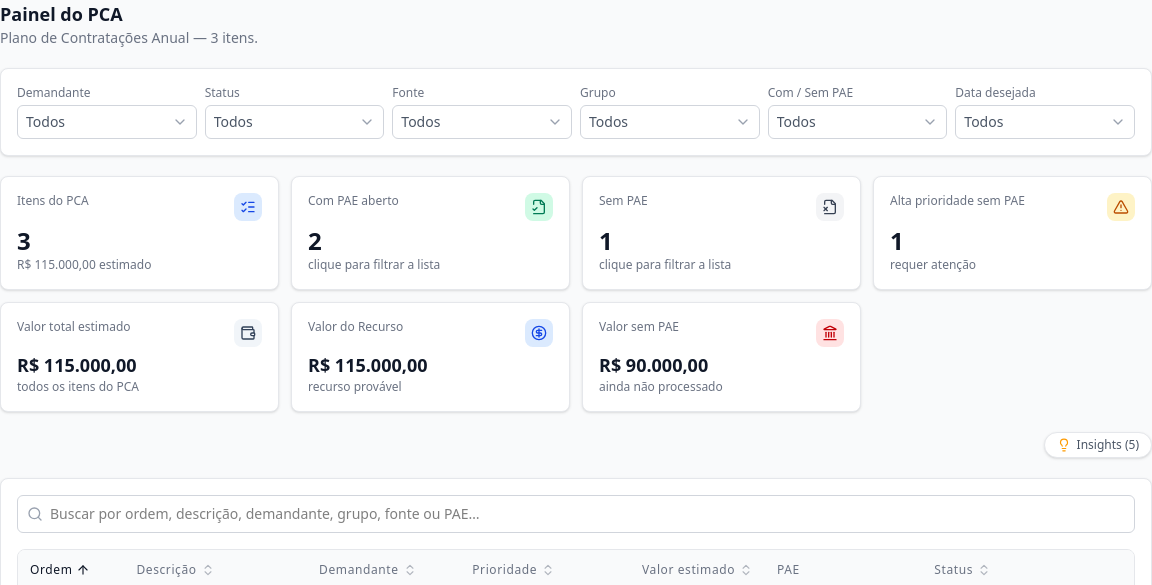
Test: PainelPca › o card "Sem PAE" filtra a lista e gera ponto de atenção de alta prioridade
Click the button "Insights (5)": x=1098, y=445 [1044,432,1151,458]
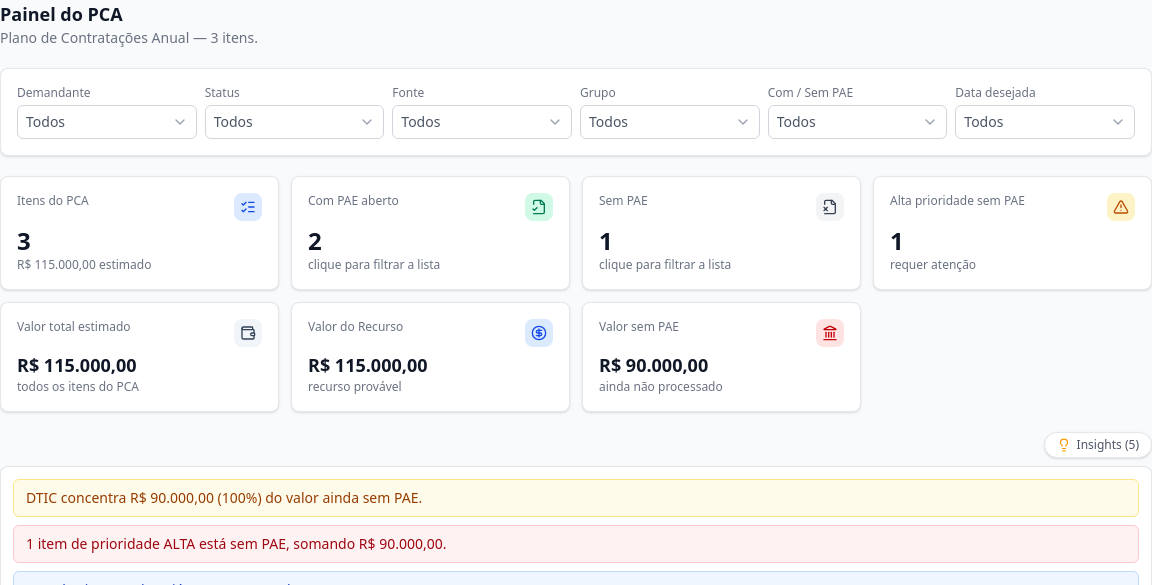
Check: the list item "1 item de prioridade ALTA está sem PAE" is shown, box [26,534,446,553]
Click the button "Sem PAE 1 clique para filtrar a lista": x=623, y=200 [582,176,861,290]
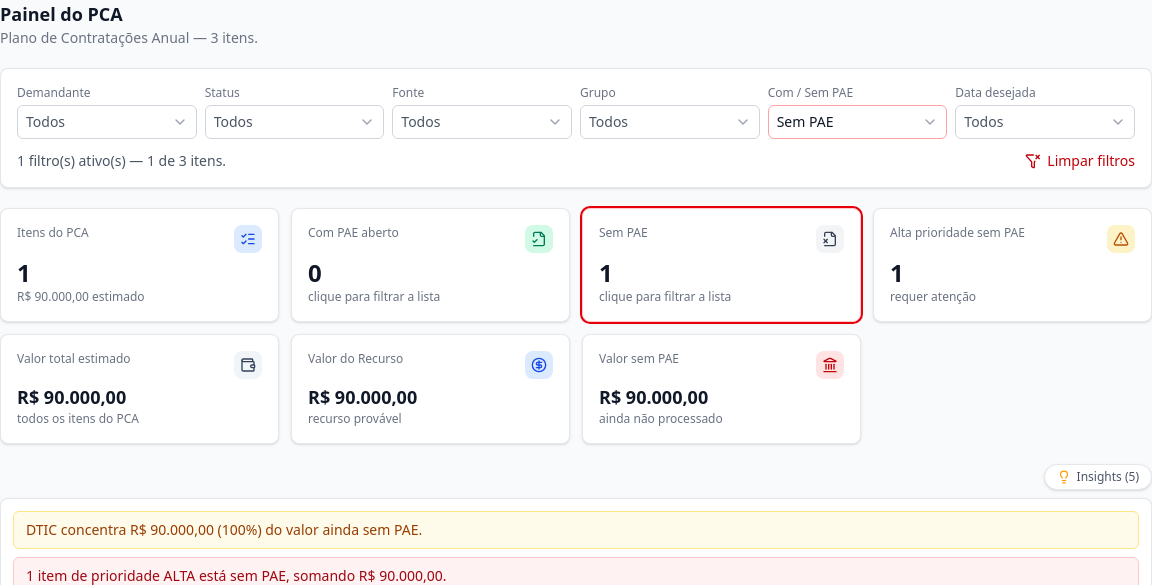
Check: the text "Notebooks" is not shown
Check: the text "1 filtro(s) ativo(s) — 1 de 3 itens." is shown, box [17,151,226,171]
Click the button "Limpar filtros": x=1080, y=161 [1025,151,1135,171]
(page scrolled)
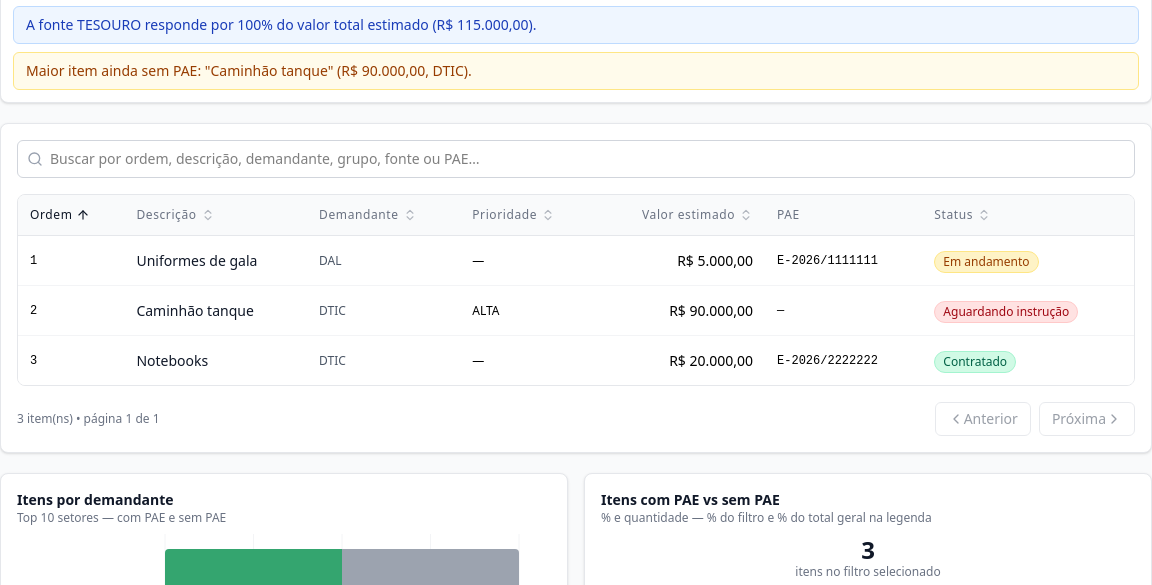
Check: the text "Notebooks" is shown, box [136,350,208,370]
